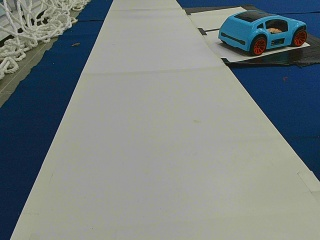car: (218, 11, 308, 54)
